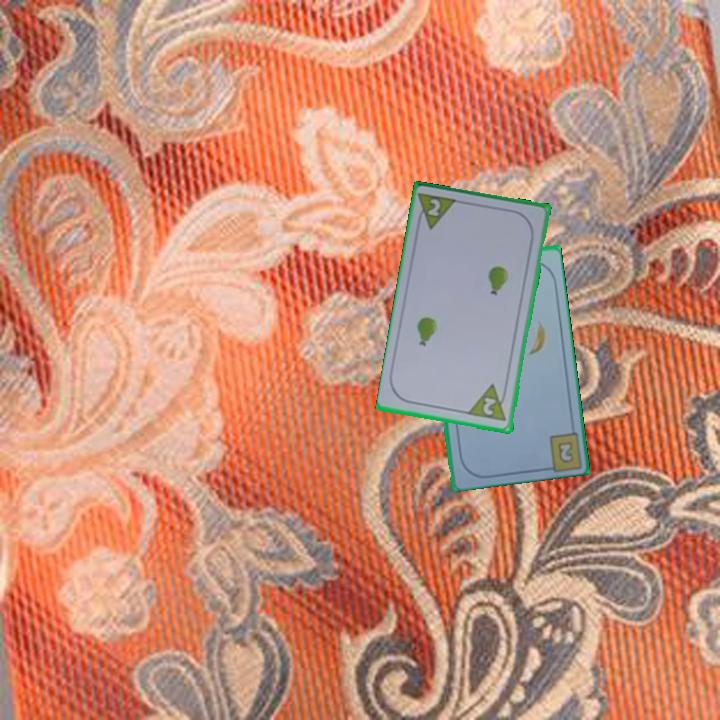2b: (554, 438, 577, 466)
2p: (413, 190, 461, 234), (479, 394, 499, 418)
